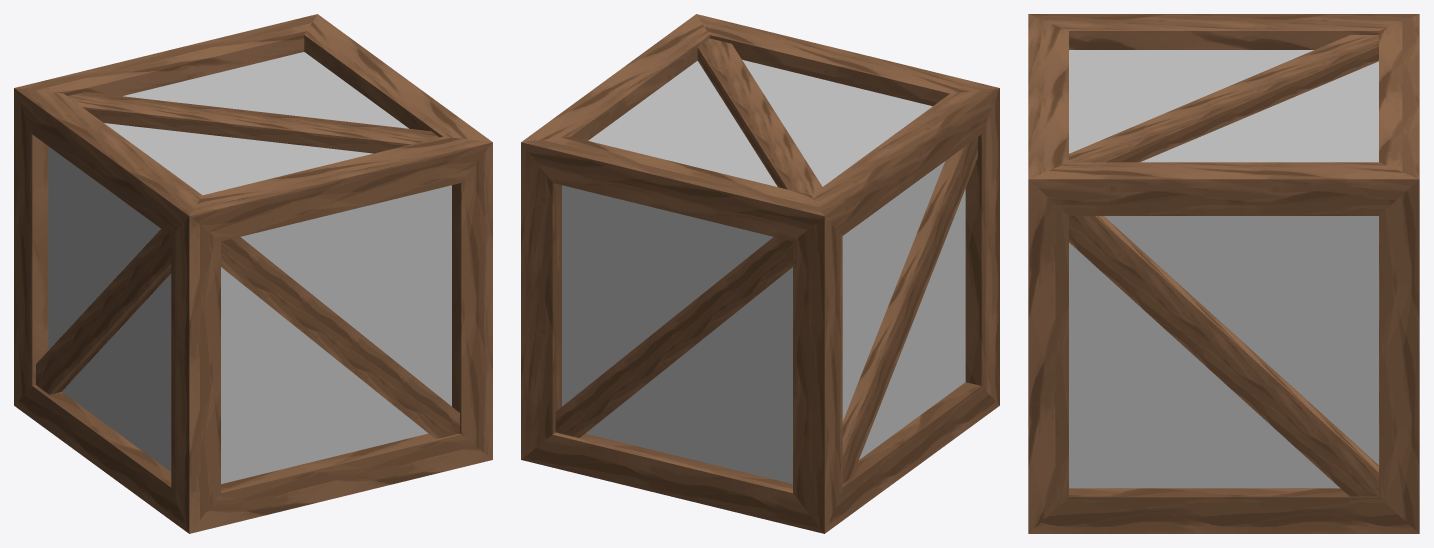
File: Wood_Box_1.fbx
3 renders of one model, left to right at view 1: azimuth 30°, elevation 25°; view 2: azimuth 150°, elevation 25°; view 3: azimuth 270°, elevation 25°, orthographic. The views are drawn at different scales.
Parts seen in each view (by area): view 1: _Wood_Box_1; view 2: _Wood_Box_1; view 3: _Wood_Box_1.
Boxes of the visible parts, x1,y1,x2,y2 form: _Wood_Box_1: (14, 14, 492, 533); _Wood_Box_1: (521, 14, 999, 533); _Wood_Box_1: (1028, 14, 1419, 533).
Bounding box in the file's own units: 80 × 80 × 80.
